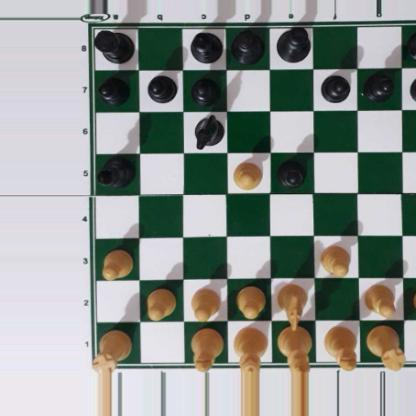black-bishop: (94, 156, 137, 188), (188, 29, 224, 62)
black-king: (275, 23, 312, 61)
black-knight: (192, 113, 223, 146)
black-pawn: (276, 157, 306, 187), (365, 71, 394, 101), (320, 73, 350, 102), (98, 75, 129, 103), (147, 74, 175, 103), (192, 75, 219, 104), (410, 73, 416, 104)
black-queen: (230, 28, 265, 62)
black-rook: (91, 26, 135, 63), (408, 22, 416, 62)
white-bishop: (191, 325, 222, 371), (323, 326, 356, 369)
white-king: (277, 322, 312, 372)
white-knight: (276, 282, 309, 332)
white-pawn: (144, 286, 176, 319), (99, 248, 133, 279), (190, 286, 220, 321), (319, 244, 350, 276), (235, 284, 265, 317), (232, 160, 262, 190), (412, 286, 416, 318)
white-queen: (232, 325, 267, 374)
white-rook: (93, 325, 130, 374), (367, 328, 404, 367)
